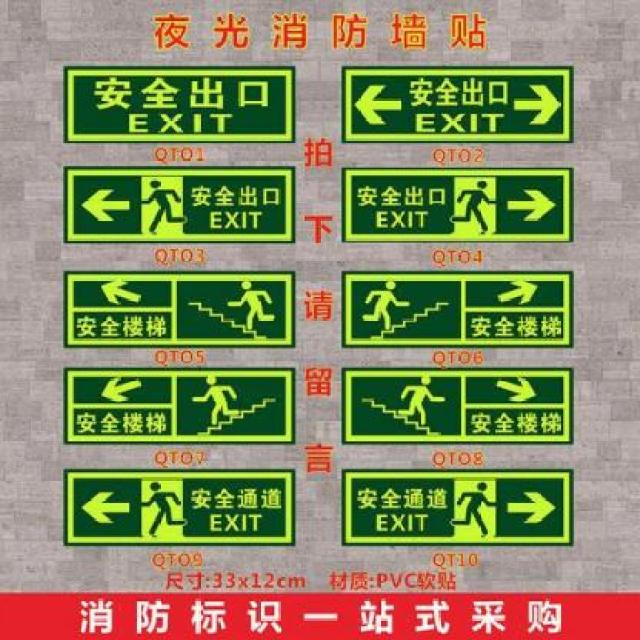exit_sign: (54, 263, 297, 349), (342, 266, 574, 356), (336, 60, 576, 146), (60, 462, 297, 548), (338, 164, 577, 248), (57, 362, 300, 444), (338, 361, 578, 444), (63, 160, 300, 244), (340, 463, 575, 547), (60, 57, 296, 140)
